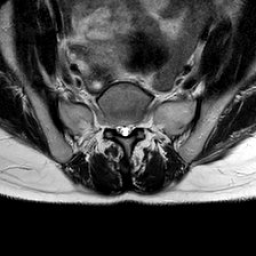CCS_severe_stenosis: (121, 116, 128, 142)
LFS_stenosis: (134, 109, 144, 134)
LLS_normal: (128, 115, 136, 140)
RFS_stenosis: (106, 110, 114, 134)
RLS_stenosis: (114, 116, 121, 140)
